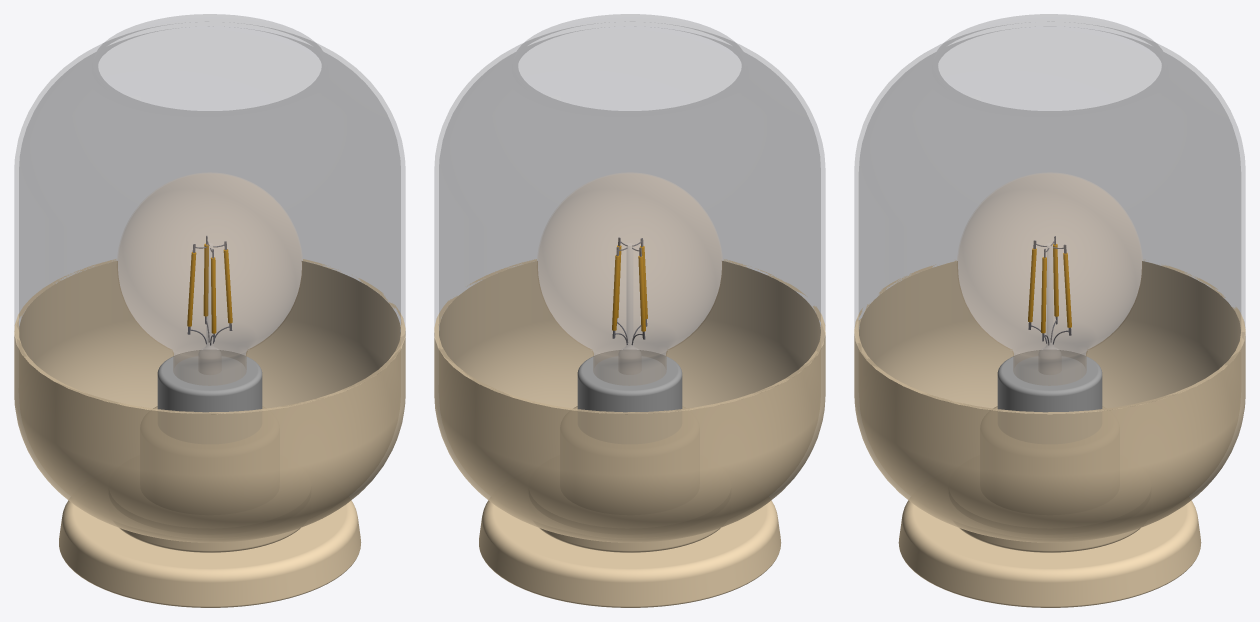
The picture shows the model from 3 angles, left to right: view 1: azimuth 30°, elevation 25°; view 2: azimuth 150°, elevation 25°; view 3: azimuth 270°, elevation 25°; orthographic projection.
Visible parts, largest first — view 1: color-3, color, color-7, color-6, color-2, color-5, color-10, color-9; view 2: color-3, color, color-7, color-6, color-2, color-5, color-9, color-10; view 3: color-3, color, color-7, color-6, color-2, color-5, color-10, color-9.
Boxes of the visible parts, left/top/right/bottom form: color-3: left=15, top=14, right=404, bottom=413; color: left=14, top=259, right=405, bottom=542; color-7: left=117, top=173, right=302, bottom=385; color-6: left=59, top=500, right=361, bottom=607; color-2: left=157, top=350, right=262, bottom=412; color-5: left=118, top=527, right=300, bottom=552; color-10: left=187, top=243, right=232, bottom=333; color-9: left=199, top=243, right=220, bottom=374; color-3: left=435, top=14, right=824, bottom=413; color: left=434, top=259, right=825, bottom=542; color-7: left=537, top=173, right=722, bottom=385; color-6: left=479, top=500, right=781, bottom=607; color-2: left=577, top=350, right=682, bottom=412; color-5: left=538, top=527, right=720, bottom=552; color-9: left=619, top=243, right=640, bottom=374; color-10: left=612, top=245, right=647, bottom=331; color-3: left=855, top=14, right=1244, bottom=411; color: left=854, top=260, right=1245, bottom=542; color-7: left=957, top=173, right=1142, bottom=385; color-6: left=898, top=500, right=1201, bottom=607; color-2: left=997, top=350, right=1102, bottom=412; color-5: left=958, top=527, right=1140, bottom=552; color-10: left=1028, top=244, right=1071, bottom=333; color-9: left=1039, top=243, right=1060, bottom=374.
Size of the model in its own units: 0.168 by 0.228 by 0.168.
